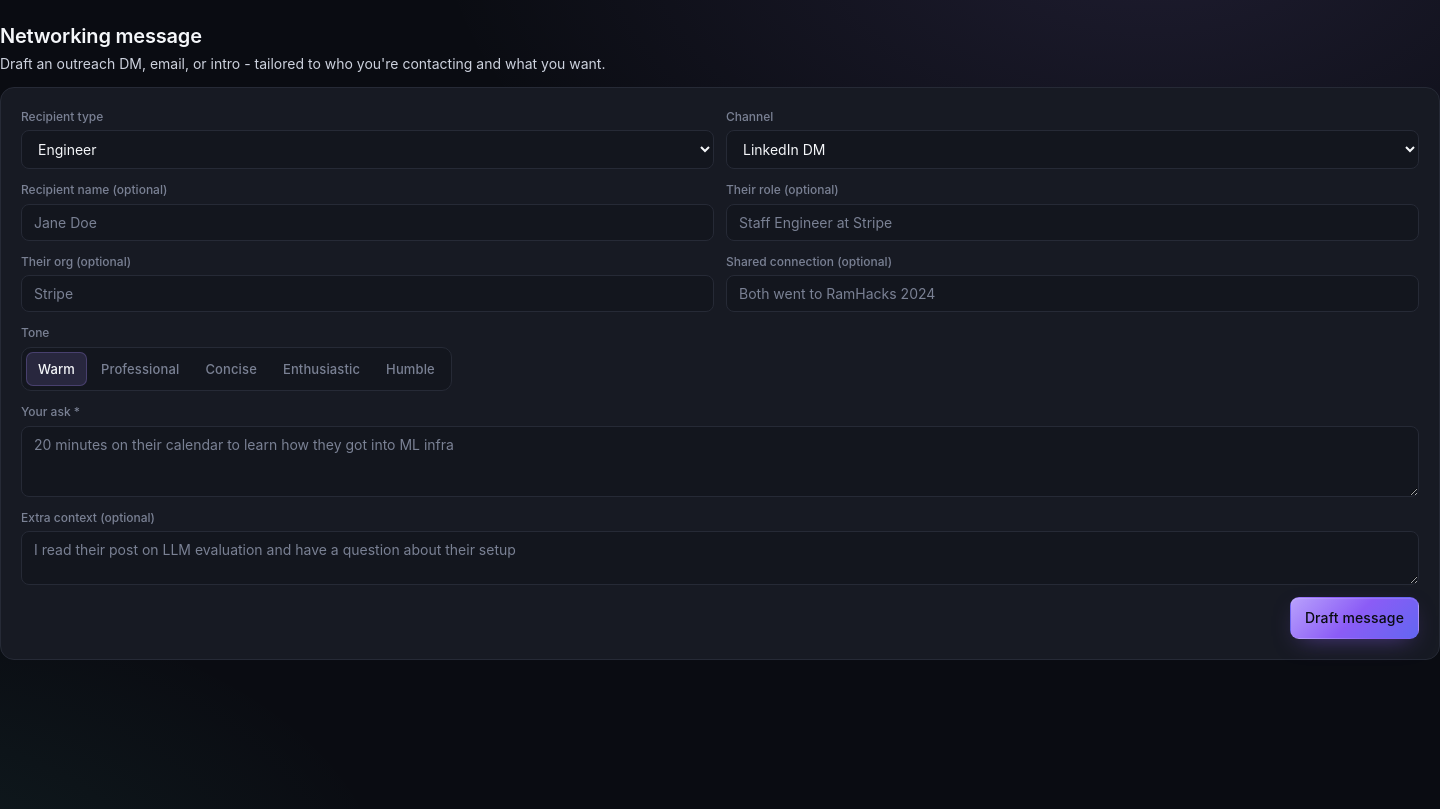
Test case: NetworkingPanel › submits to /api/networking/generate with the entered ask and renders result
Replace the text in the text box with placeholder "20 minutes on their calendar" with "20 minutes to chat about your work on ML infra" at (720, 461), box [21,426,1419,497]
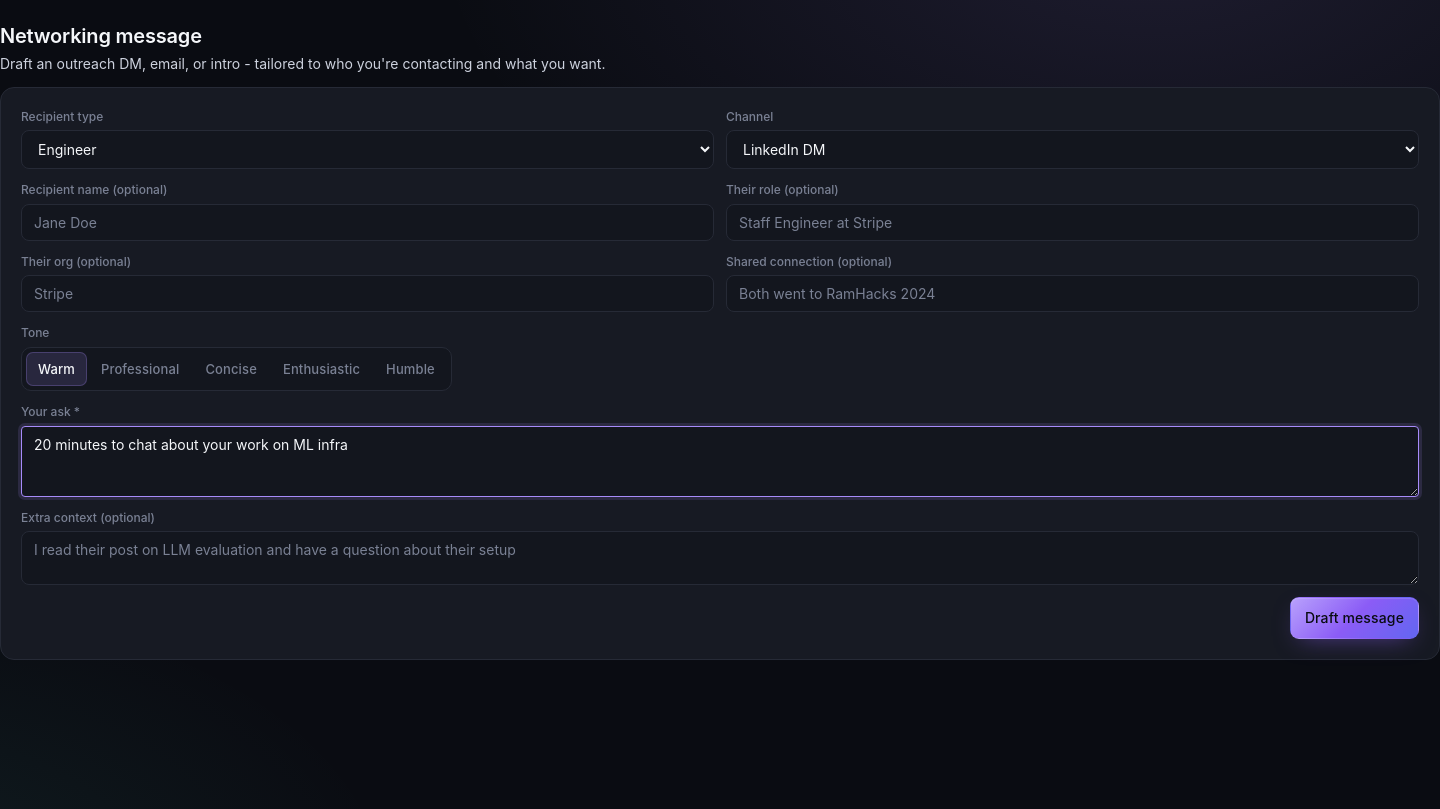
Click the button "Draft message" at (1354, 618), box [1290,597,1419,639]
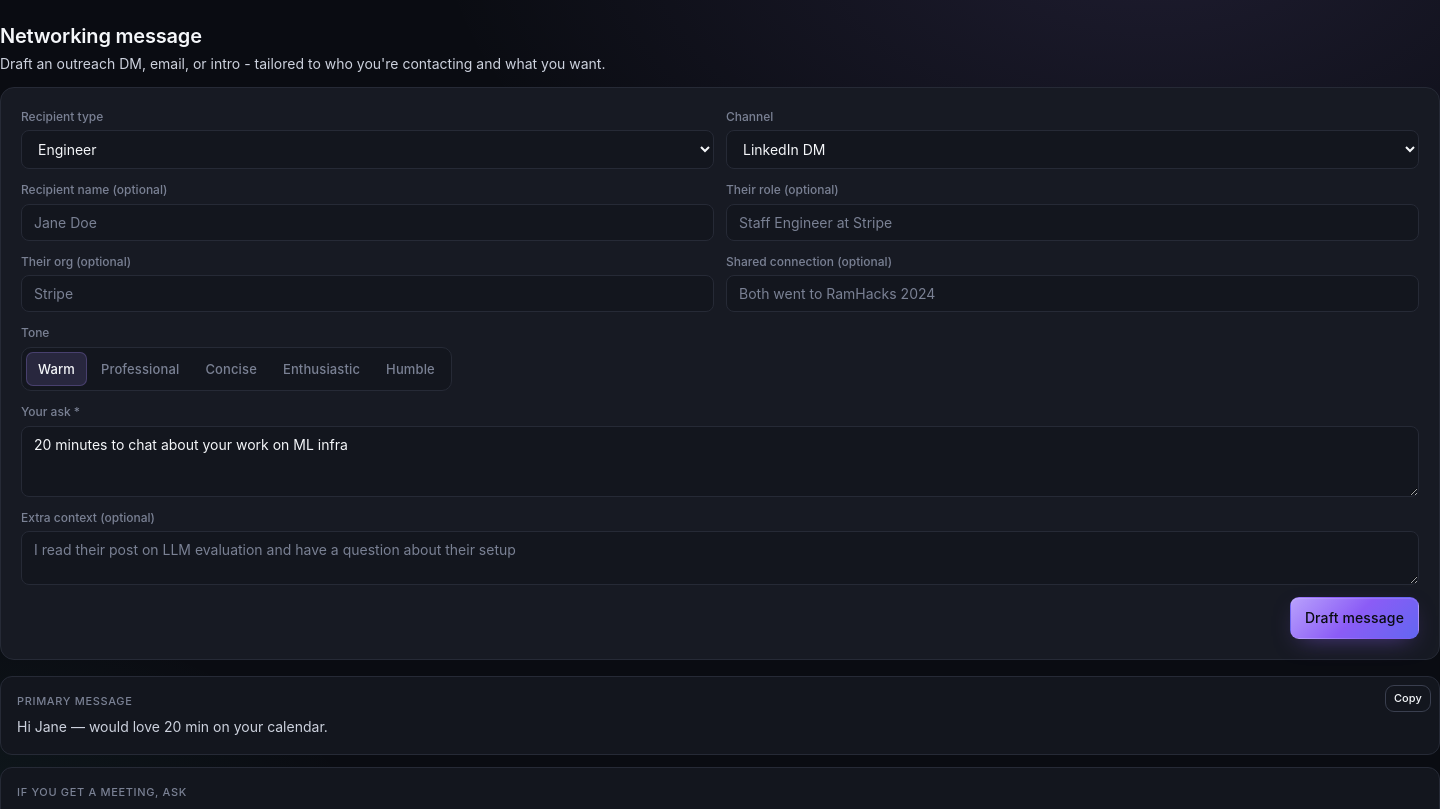
Now the text "Hi Jane — would love 20 min on your calendar." is shown, box [17,718,328,735]
